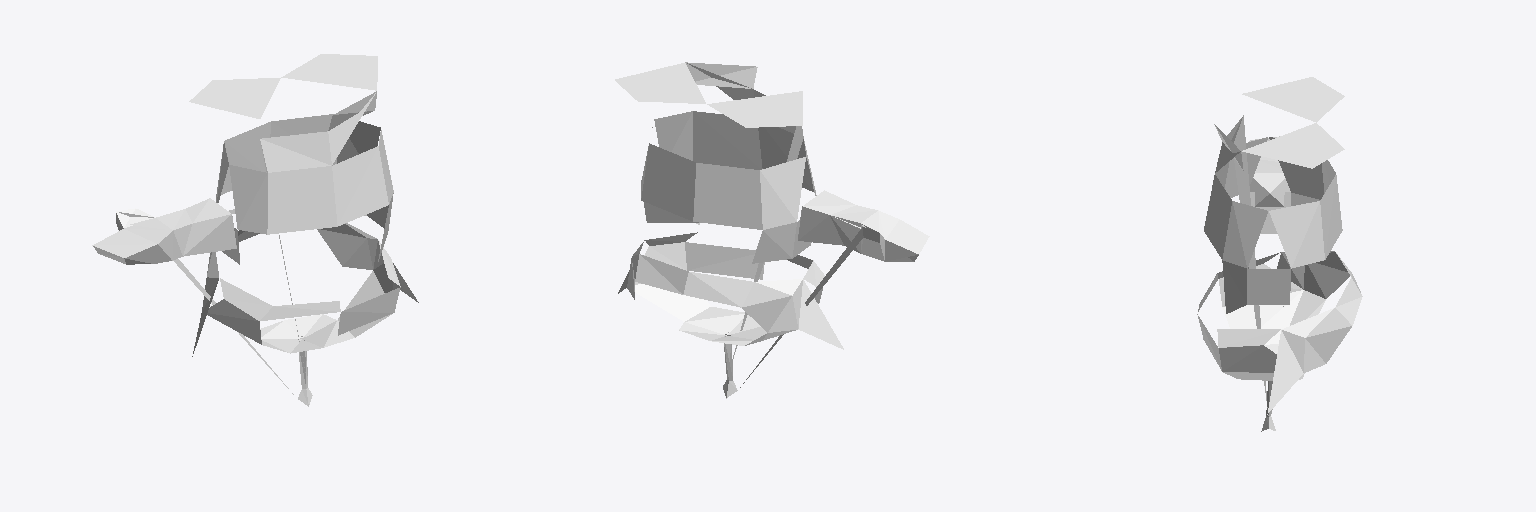
Rendered from MARTIAN.obj.
3 renders of one model, left to right at view 1: azimuth 30°, elevation 25°; view 2: azimuth 150°, elevation 25°; view 3: azimuth 270°, elevation 25°, orthographic.
Parts seen in each view (by area): view 1: MARTIAN_node01_face01, MARTIAN_node00_face00, MARTIAN_node01_face00; view 2: MARTIAN_node01_face01, MARTIAN_node00_face00, MARTIAN_node01_face00; view 3: MARTIAN_node01_face01, MARTIAN_node01_face00, MARTIAN_node00_face00.
Part boxes in pixels (x1,y1,x2,y2): MARTIAN_node01_face01: (189,54,418,406); MARTIAN_node00_face00: (92,198,236,264); MARTIAN_node01_face00: (98,93,375,405); MARTIAN_node01_face01: (615,62,843,398); MARTIAN_node00_face00: (798,190,929,261); MARTIAN_node01_face00: (643,63,927,388); MARTIAN_node01_face01: (1197,77,1362,431); MARTIAN_node01_face00: (1214,115,1290,415); MARTIAN_node00_face00: (1249,136,1290,206).
Size of the model in its own units: 290 by 272 by 132.